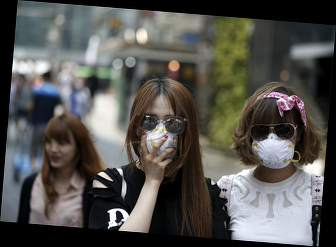with_mask: (250, 118, 296, 170), (138, 110, 180, 160)
without_mask: (45, 137, 75, 170)
